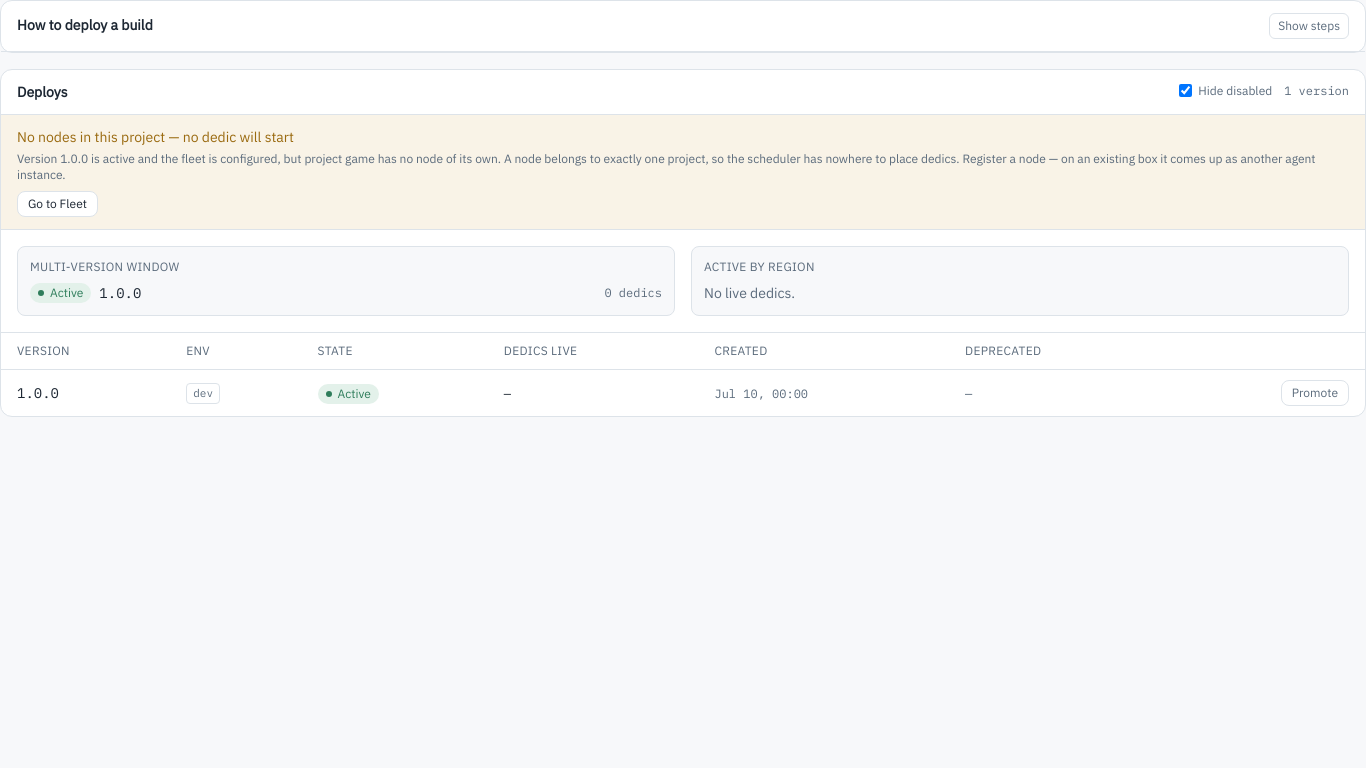
Scenario: PromoteDialog: 403 привязанного ключа — головная поверхность #1005 › EN: тот же смысл по-английски
This screenshot has width=1366, height=768.
Click the button "Promote": point(1315, 393) [1281, 380, 1349, 406]
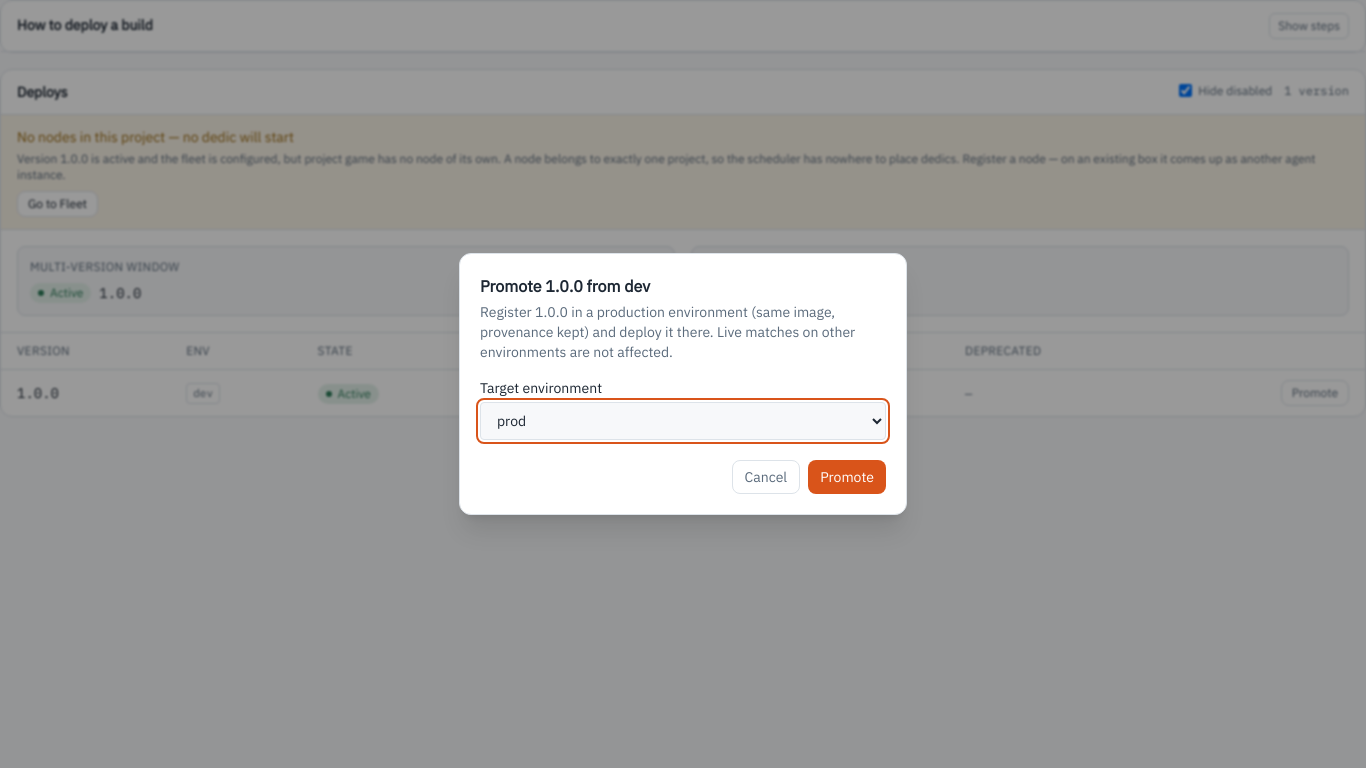
Click the button "Promote": point(847, 477) [808, 460, 886, 494]
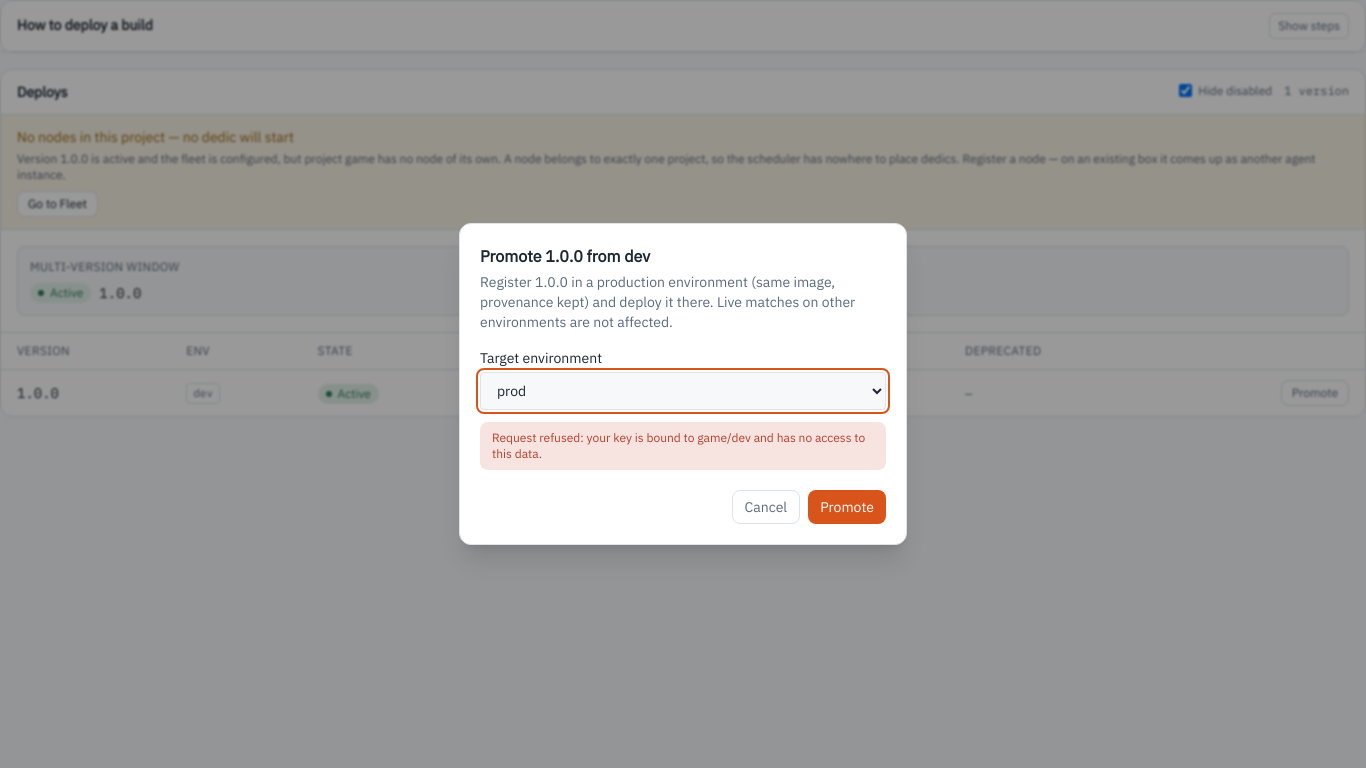
Check: the text "Request refused: your key is bound to game/dev and has no access to this data." is shown, box [480, 422, 886, 470]
